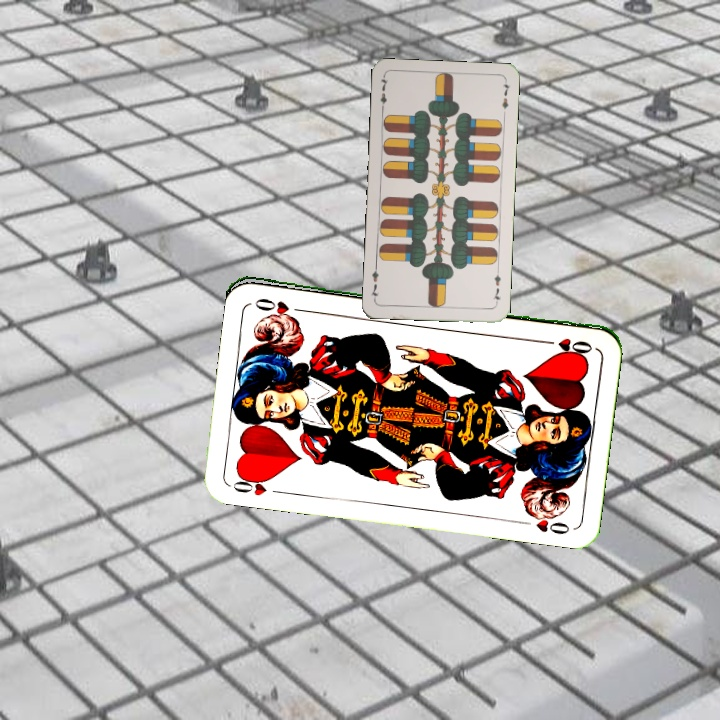E7: (489, 266, 503, 307), (377, 73, 391, 114)
HO: (227, 470, 286, 499), (537, 333, 595, 355)
